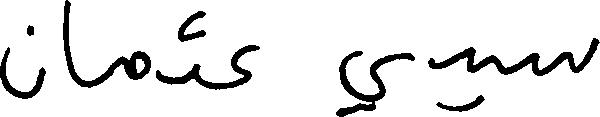X: (341, 46, 410, 116), (0, 20, 46, 103), (430, 42, 473, 116), (535, 33, 599, 80), (232, 40, 256, 92), (62, 0, 75, 86), (129, 46, 150, 84), (195, 6, 199, 88), (487, 50, 497, 73)
